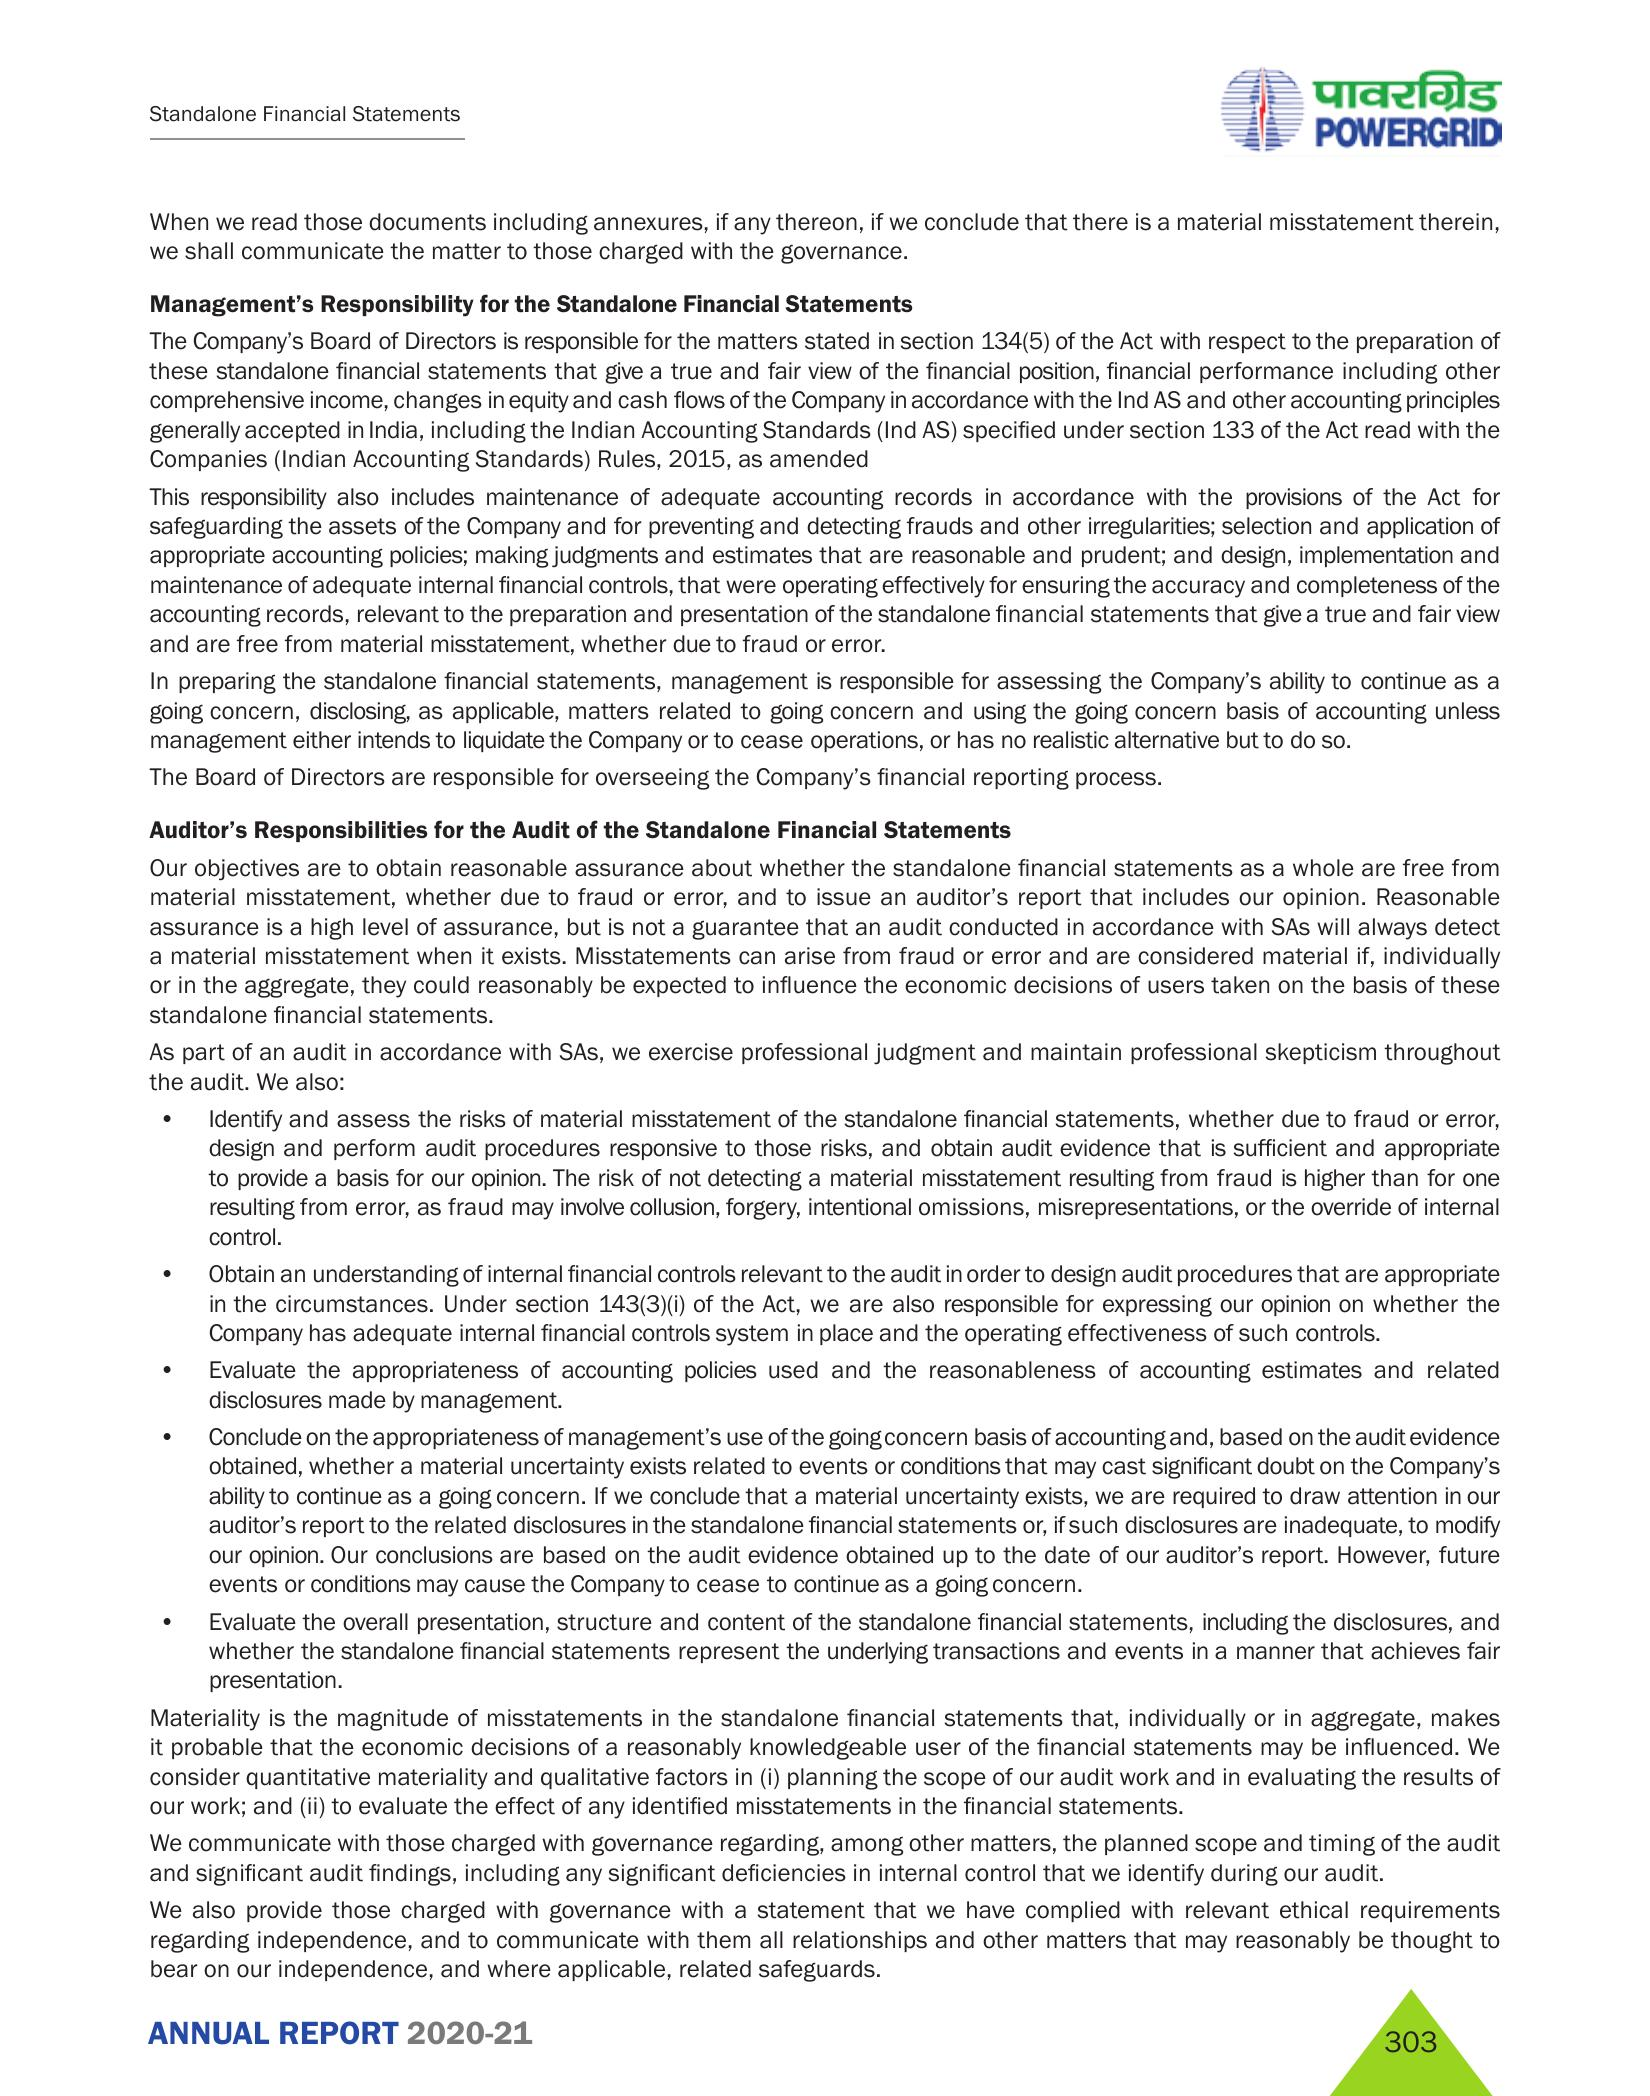Footer: (0, 1985, 1650, 2096)
Header: (0, 0, 1650, 184)
